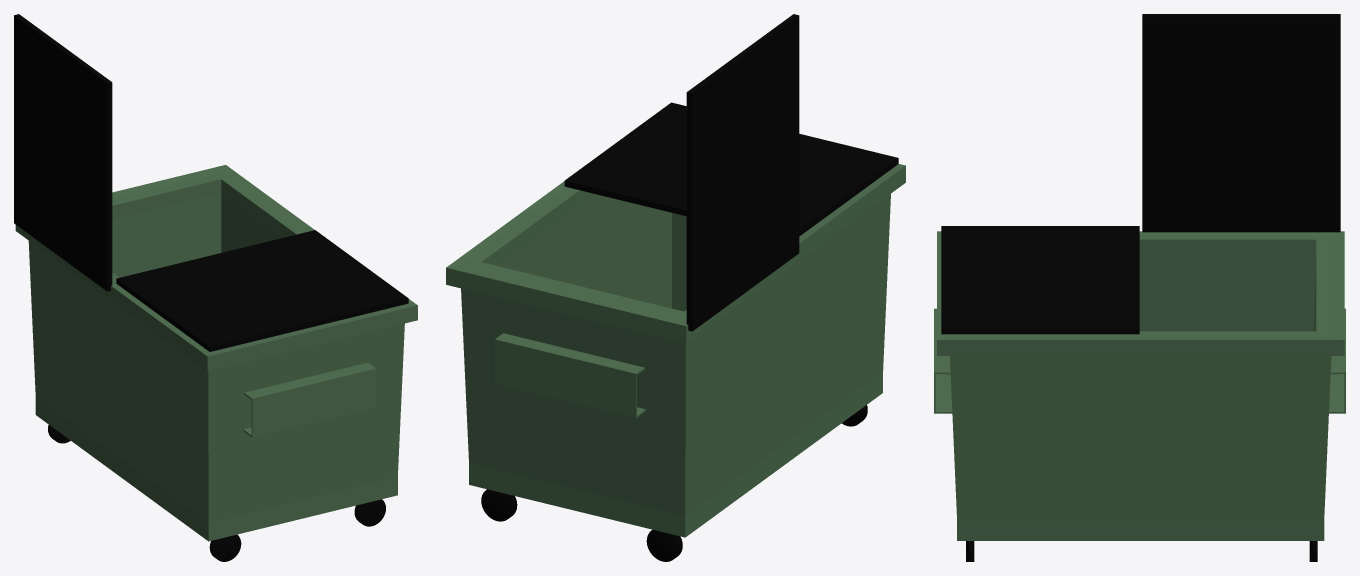
Rendered from dumpster.fbx.
3 views of the same model, side by side, from view 1: azimuth 30°, elevation 25°; view 2: azimuth 150°, elevation 25°; view 3: azimuth 270°, elevation 25° (orthographic). The views are drawn at different scales.
Parts seen in each view (by area): view 1: Cube, Cube.004, Cube.003, Cube.002, Cylinder.003, Cylinder; view 2: Cube, Cube.004, Cube.003, Cube.001, Cylinder.002, Cylinder.001; view 3: Cube, Cube.004, Cube.003, Cube.002, Cube.001.
Part boxes in pixels (x1,y1,x2,y2): Cube: (15,165,417,541); Cube.004: (14,14,112,291); Cube.003: (116,230,408,351); Cube.002: (243,362,375,437); Cylinder.003: (209,534,241,561); Cylinder: (354,499,385,526); Cube: (446,164,905,537); Cube.004: (686,14,799,331); Cube.003: (564,102,898,236); Cube.001: (495,333,645,417); Cylinder.002: (646,529,682,561); Cylinder.001: (481,489,517,521); Cube: (937,231,1344,540); Cube.004: (1142,14,1340,232); Cube.003: (941,226,1139,334); Cube.002: (934,308,952,413); Cube.001: (1329,308,1345,413).
Bounding box in the file's own units: 346 × 659 × 543.
